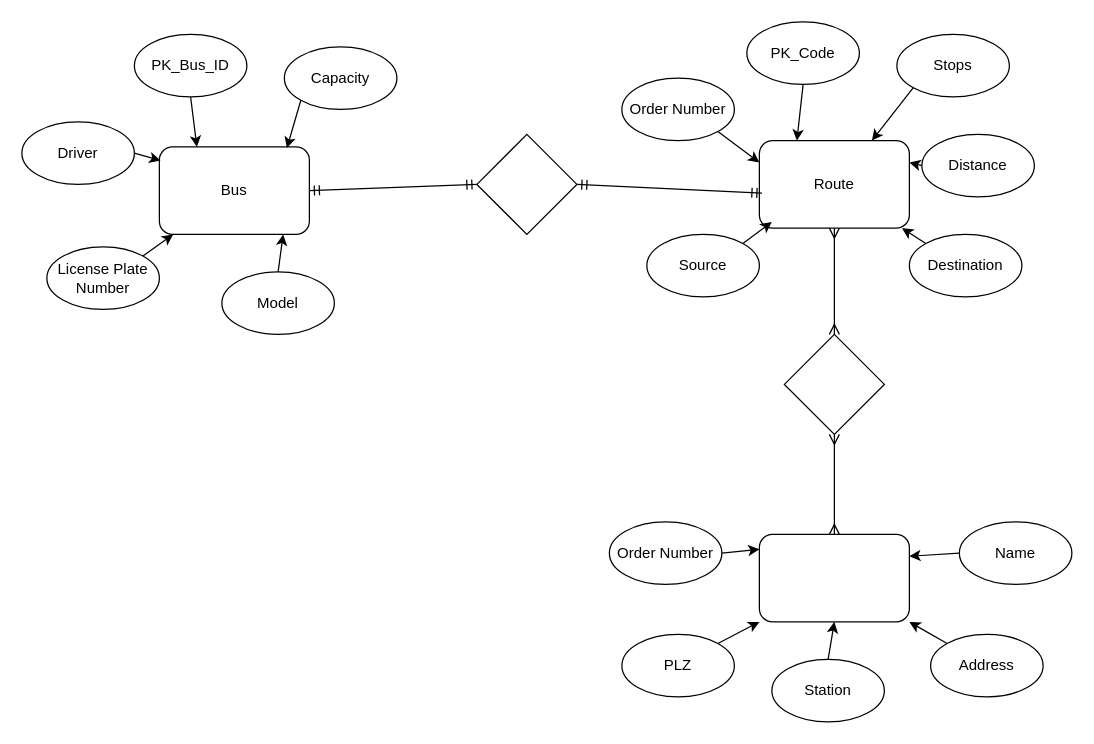
Some shapes in this 1094 by 744 pixel diagram are drawn without their labels. The box of each missing label's shape, as (x1, y1, x2, y2) in pixels:
City: (758, 533, 909, 622)
Takes: (476, 133, 577, 234)
To: (783, 333, 884, 434)
